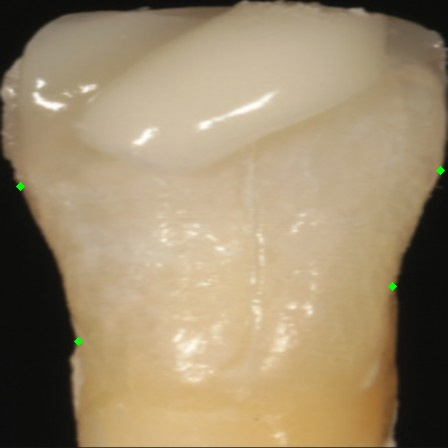coin_1: (78, 341, 98, 361)
coin_2: (20, 186, 40, 206)
coin_3: (392, 286, 412, 306)
coin_4: (440, 170, 448, 190)
